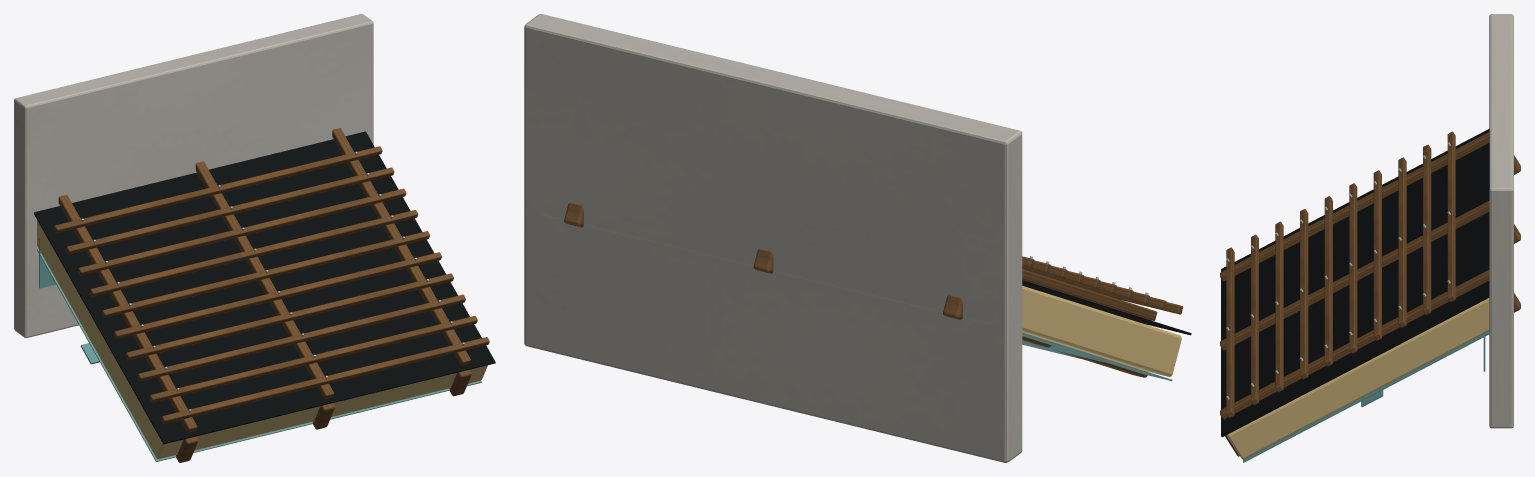
File: modell.glb
The picture shows the model from 3 angles, left to right: view 1: azimuth 30°, elevation 25°; view 2: azimuth 150°, elevation 25°; view 3: azimuth 270°, elevation 25°; orthographic projection. The views are drawn at different scales.
Parts seen in each view (by area): view 1: g04-zusatzebene_zusatzebene, g04-wand_, g04-lattung_lattung, g04-daemmung_daemmung, g04-luftdichtheit_luftdichtheit, g04-sparren_tragwerk; view 2: g04-wand_, g04-daemmung_daemmung, g04-lattung_lattung, g04-sparren_tragwerk, g04-luftdichtheit_luftdichtheit, g04-zusatzebene_zusatzebene; view 3: g04-zusatzebene_zusatzebene, g04-lattung_lattung, g04-wand_, g04-daemmung_daemmung, g04-luftdichtheit_luftdichtheit, g04-sparren_tragwerk, g04-befestigung_lattung.
Boxes of the visible parts, box(x1,y1,x2,y2) form: g04-zusatzebene_zusatzebene: box(34, 131, 495, 444); g04-wand_: box(14, 14, 373, 337); g04-lattung_lattung: box(53, 128, 489, 432); g04-daemmung_daemmung: box(37, 220, 487, 459); g04-luftdichtheit_luftdichtheit: box(37, 249, 481, 461); g04-sparren_tragwerk: box(176, 369, 471, 462); g04-wand_: box(524, 14, 1022, 462); g04-daemmung_daemmung: box(1022, 286, 1181, 376); g04-lattung_lattung: box(1022, 256, 1183, 320); g04-sparren_tragwerk: box(564, 203, 1147, 377); g04-luftdichtheit_luftdichtheit: box(540, 214, 1172, 380); g04-zusatzebene_zusatzebene: box(1022, 280, 1191, 335); g04-zusatzebene_zusatzebene: box(1221, 129, 1489, 437); g04-lattung_lattung: box(1220, 131, 1489, 419); g04-wand_: box(1489, 14, 1513, 428); g04-daemmung_daemmung: box(1227, 298, 1489, 459); g04-luftdichtheit_luftdichtheit: box(1243, 331, 1489, 462); g04-sparren_tragwerk: box(1225, 155, 1520, 456); g04-befestigung_lattung: box(1226, 142, 1450, 399).
Bounding box in the file's own units: 2.2 × 1.66 × 1.59.
Materials: 6 (2 with a texture image).
